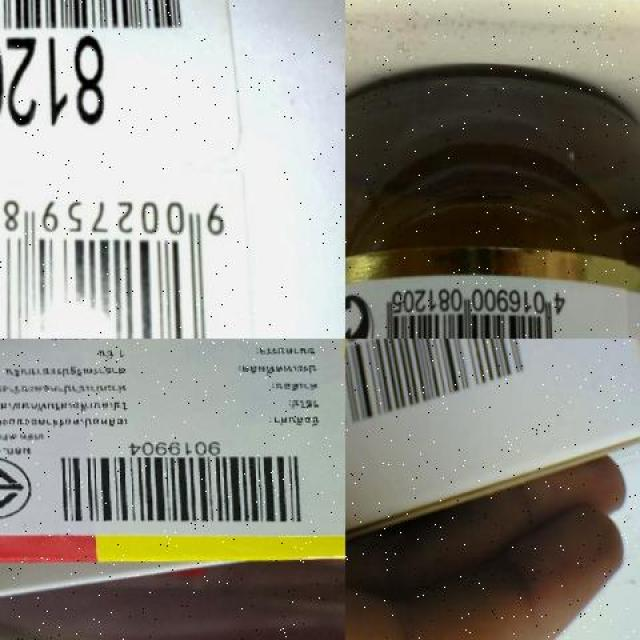Barcode: (0, 164, 236, 339), (42, 436, 315, 528), (345, 338, 564, 442), (372, 276, 576, 339)
